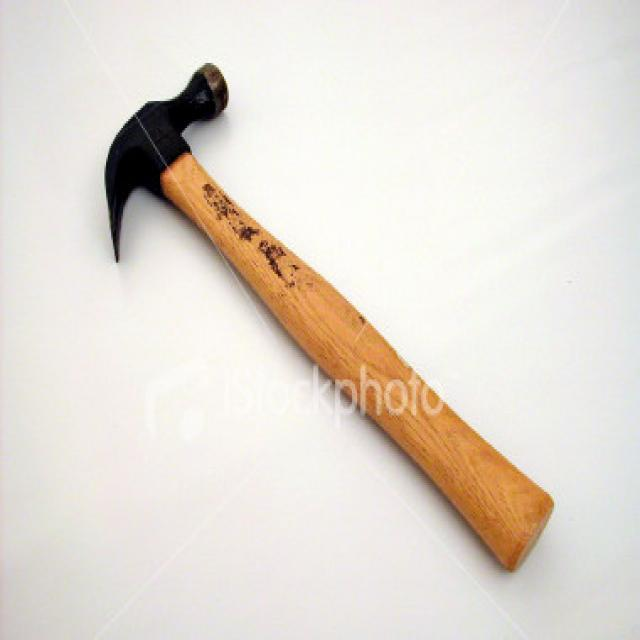hammer: (94, 57, 566, 575)
